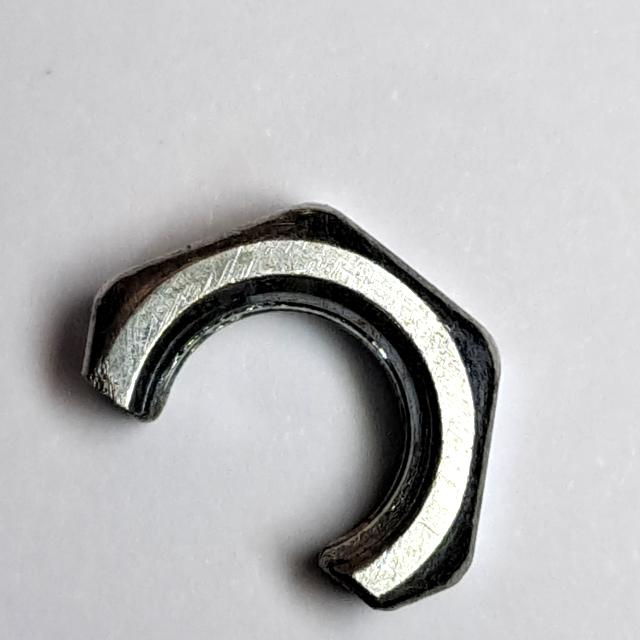Fracture: (70, 192, 506, 623)
